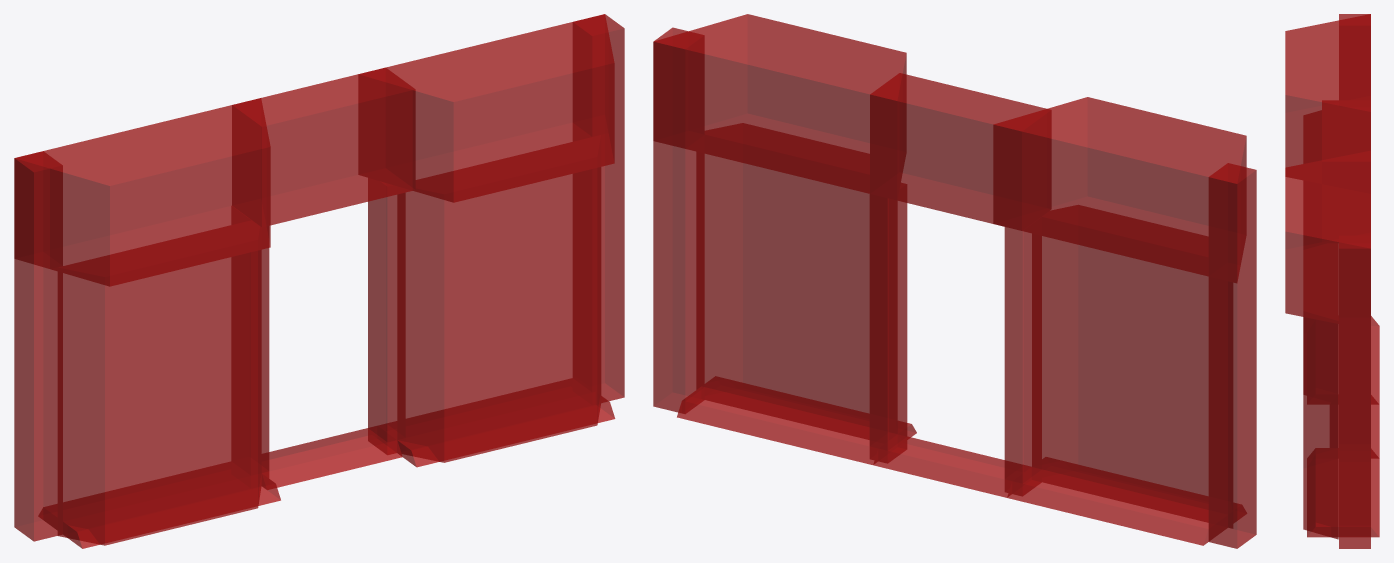
File: SM_Bld_ShopFront_04_Collision.fbx
3 views of the same model, side by side, from view 1: azimuth 30°, elevation 25°; view 2: azimuth 150°, elevation 25°; view 3: azimuth 270°, elevation 25° (orthographic). The views are drawn at different scales.
Visible parts, largest first — view 1: SM_Bld_ShopFront_04_Collision; view 2: SM_Bld_ShopFront_04_Collision; view 3: SM_Bld_ShopFront_04_Collision.
Boxes of the visible parts, bbox=[...] form: SM_Bld_ShopFront_04_Collision: bbox=[14, 14, 624, 548]; SM_Bld_ShopFront_04_Collision: bbox=[653, 14, 1256, 548]; SM_Bld_ShopFront_04_Collision: bbox=[1285, 14, 1379, 548].
Size of the model in its own units: 502 by 300 by 85.25.
